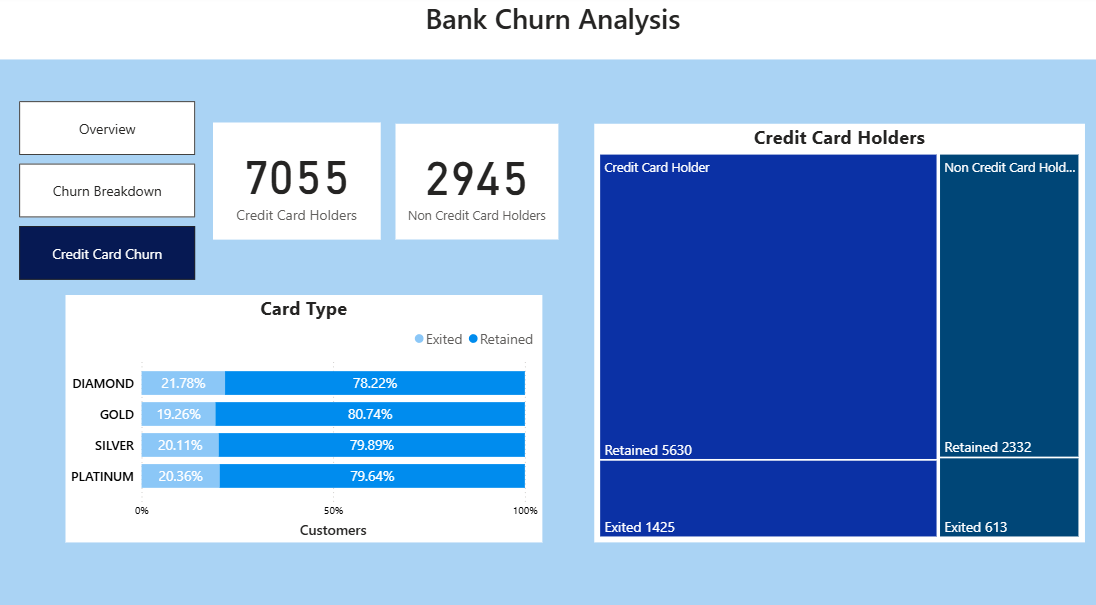

What the dashboard file says about the page in this screenshot:
{"tool":"powerbi","page":{"name":"Credit Card Churn","canvas":[1280,720],"ordinal":2},"visuals":[{"type":"textbox","box":[0,0,1280.4,74.7],"z":0},{"type":"pageNavigator","box":[24.5,122.6,203.4,207.8],"z":1000},{"type":"treemap","title":"Credit Card Holders","fields":{"Group":["Credit card Holders.Category"],"Values":["Measure.Total Customers"],"Details":["Exited.Exit  Status"]},"box":[688.4,147.9,566,483.6],"z":2000},{"type":"hundredPercentStackedBarChart","title":"Card Type","fields":{"Y":["Measure.Total Customers"],"Series":["Exited.Exit  Status"],"Category":["Customer-Churn-Records.Card Type"]},"box":[78.2,345.6,550.4,285.9],"z":3000},{"type":"card","fields":{"Values":["Measure.Credit Card Holders"]},"box":[247.5,146.5,193.4,135.1],"z":4000},{"type":"card","fields":{"Values":["Measure.Non Credit Card Holders"]},"box":[459.4,147.9,187.7,133.7],"z":5000}]}

Visuals, with their boxes in screenshot pixels (x1, y1, x2, y2), scaled from the page's 1280x720 canvas onto the 1096x605 screenshot:
textbox: <box>0,0,1095,63</box>
pageNavigator: <box>21,103,195,278</box>
"Credit Card Holders" treemap: <box>589,124,1074,531</box>
"Card Type" hundredPercentStackedBarChart: <box>67,290,538,531</box>
card - Measure.Credit Card Holders: <box>212,123,378,237</box>
card - Measure.Non Credit Card Holders: <box>393,124,554,237</box>
